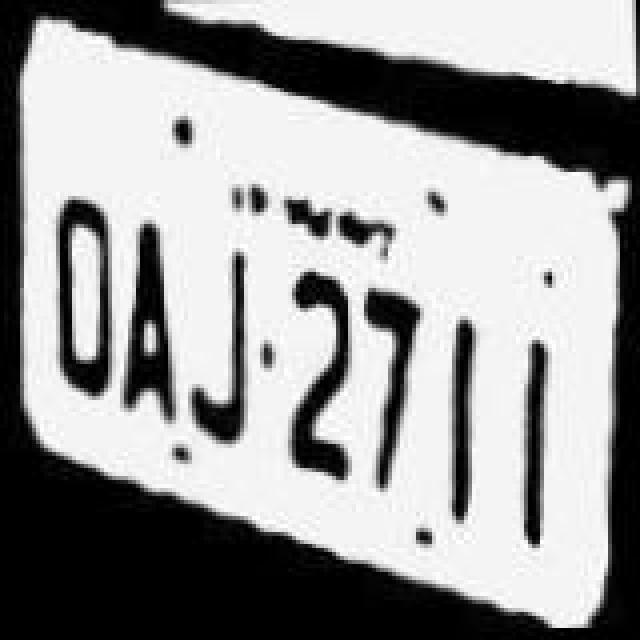1: (506, 320, 566, 572), (434, 286, 490, 538)
2: (276, 254, 356, 490)
7: (356, 262, 432, 510)
A: (112, 180, 184, 432)
J: (176, 220, 264, 452)
O: (36, 166, 124, 434)
